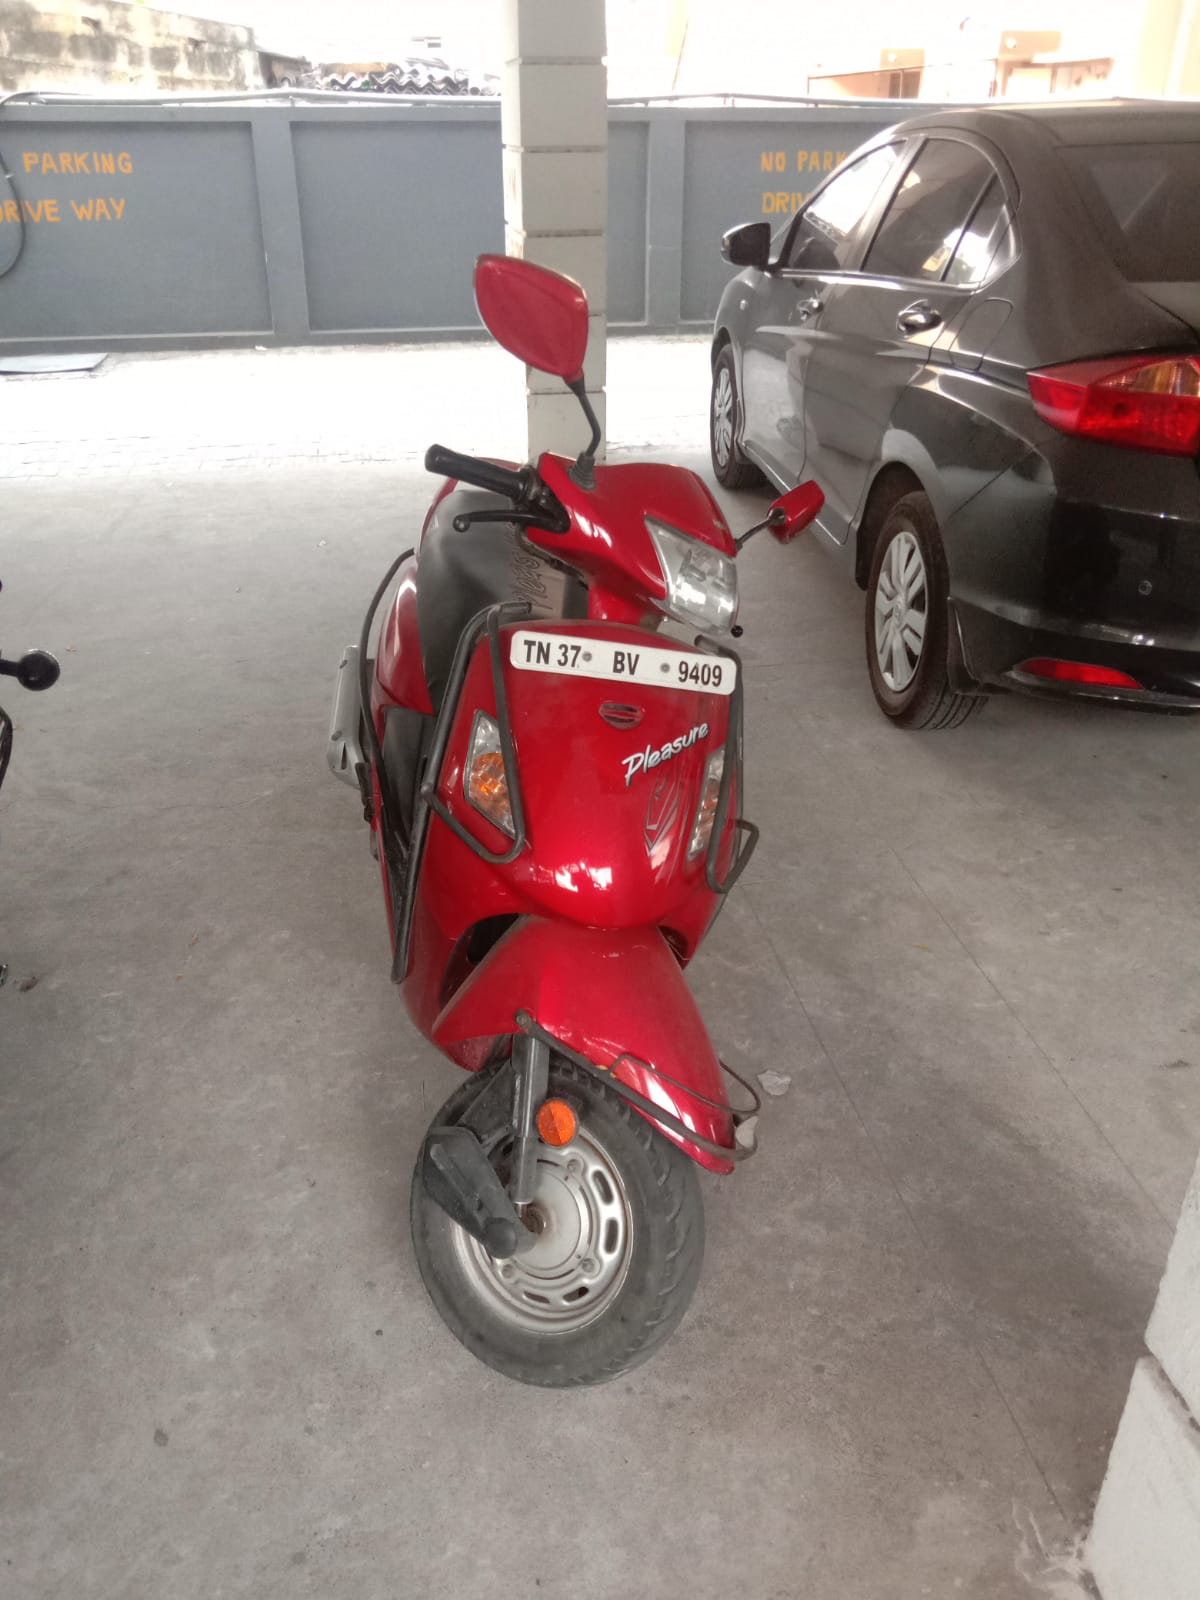numberplate: (504, 625, 746, 707)
scooter: (287, 269, 849, 1434)
